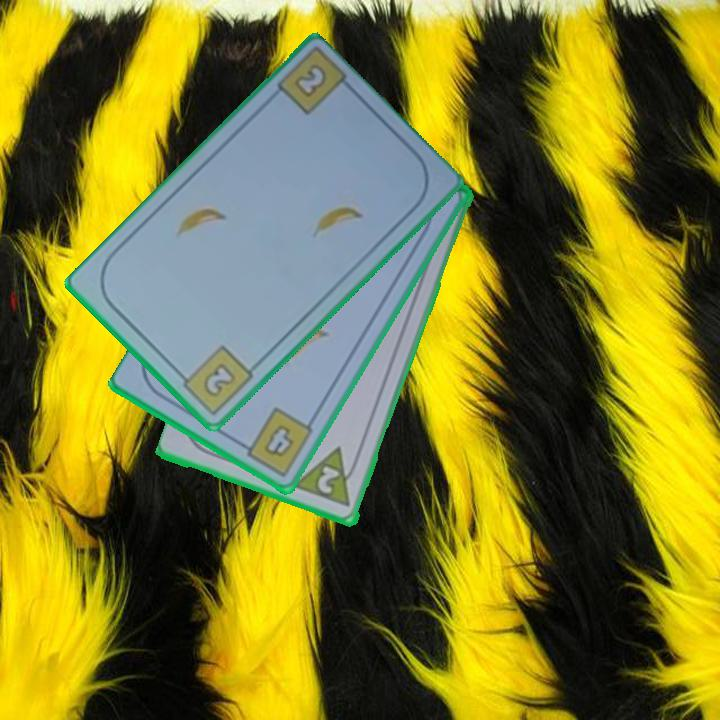2b: (172, 341, 257, 418), (290, 60, 330, 101)
2p: (313, 463, 344, 498)
4b: (235, 404, 317, 480)
